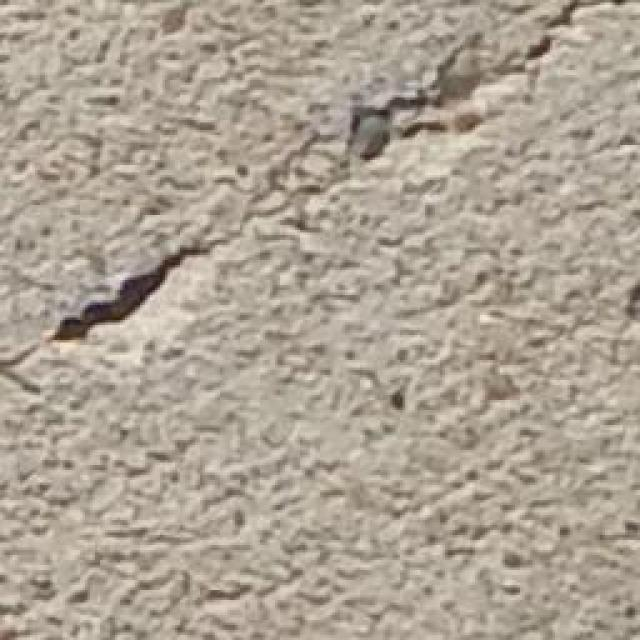concrete-crack: (8, 0, 619, 370)
